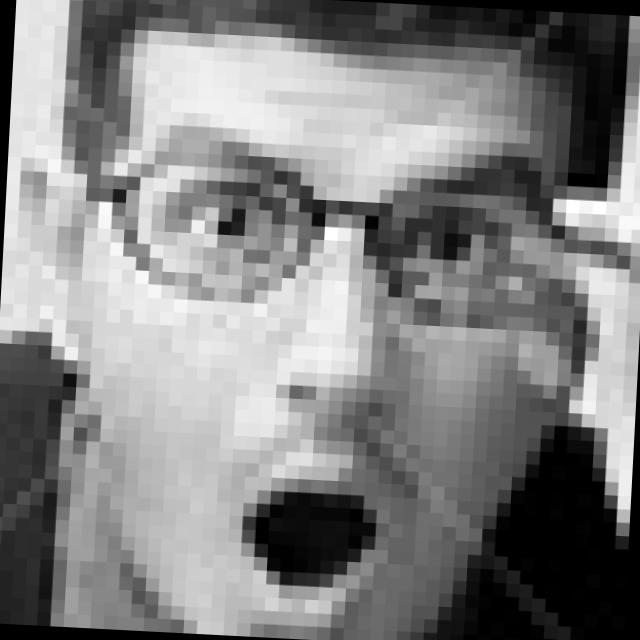surprise: (94, 132, 556, 633)
